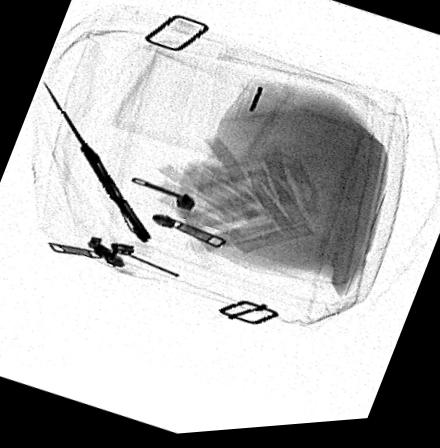Knife: (40, 79, 152, 247)
